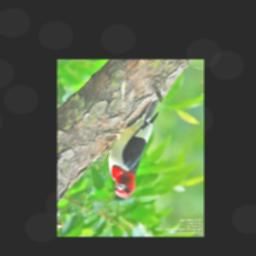Woodpecker: (99, 100, 162, 199)
